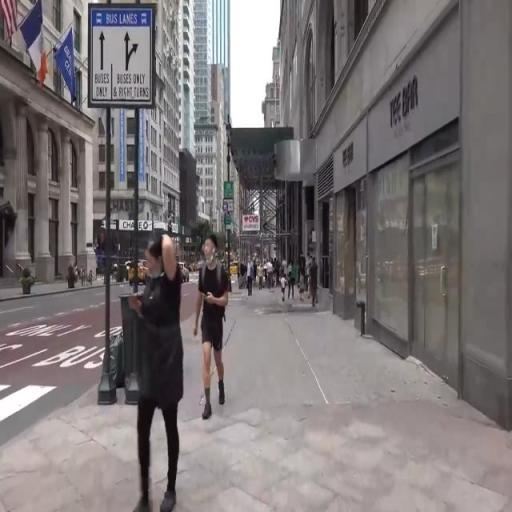person: (134, 223, 183, 512), (191, 230, 234, 419), (312, 259, 323, 319), (248, 255, 255, 305), (268, 259, 275, 296), (280, 275, 288, 305), (299, 271, 305, 306), (290, 262, 295, 303), (282, 256, 289, 279), (259, 263, 264, 293)
